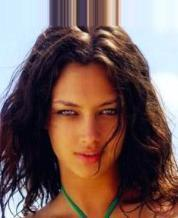face: (57, 99, 118, 163)
